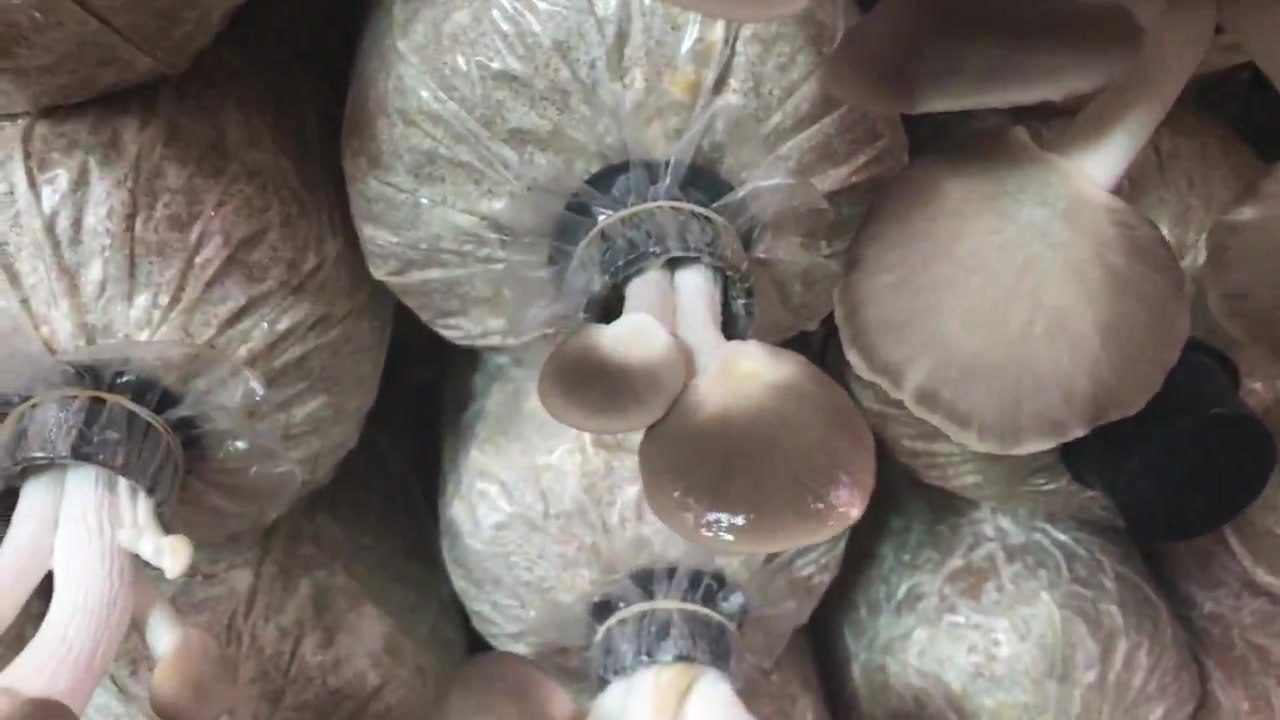nam: (827, 1, 1280, 457), (532, 205, 877, 555)
